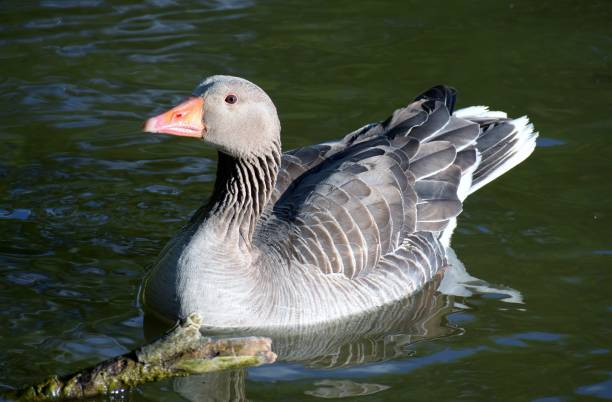goose: (108, 64, 545, 363)
